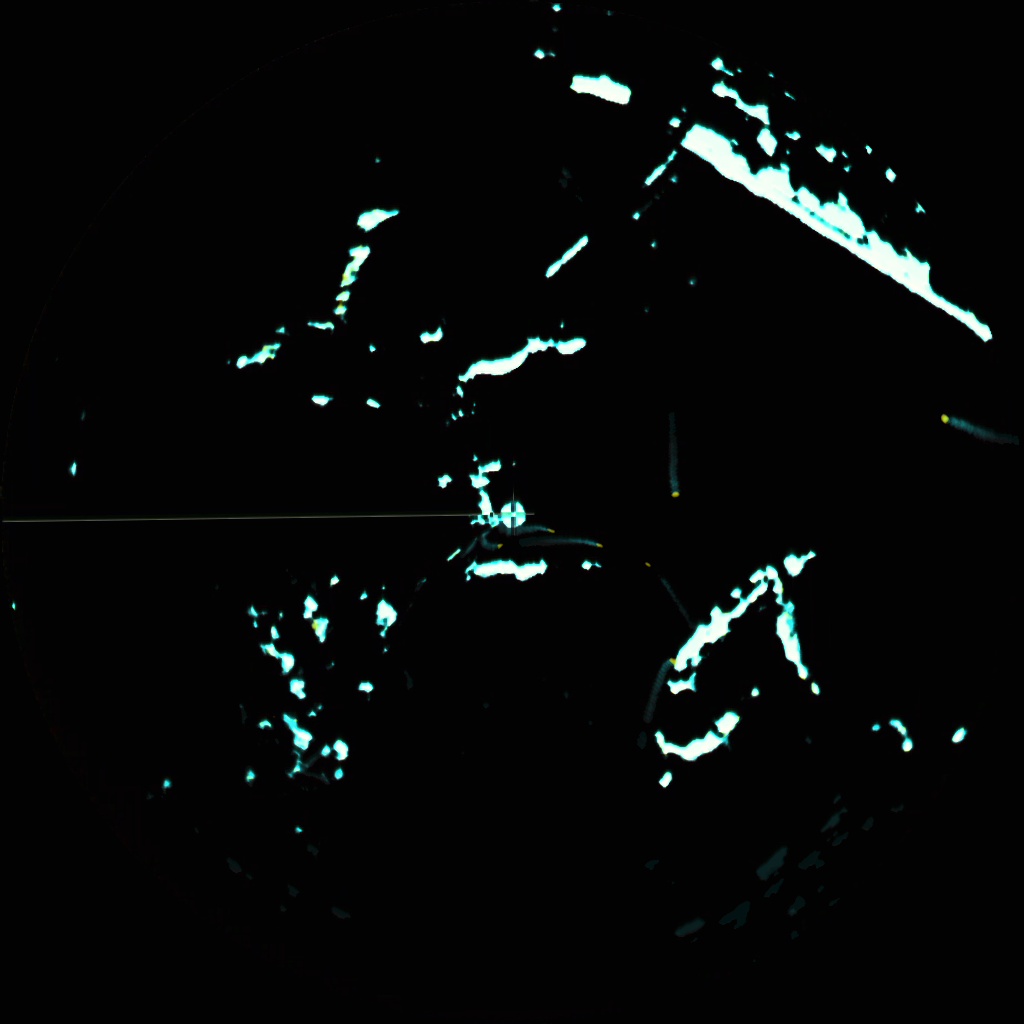B: (640, 556, 685, 612), (938, 412, 994, 445), (647, 654, 674, 698), (663, 451, 682, 501), (558, 536, 609, 547), (519, 523, 558, 535), (481, 534, 504, 551)
